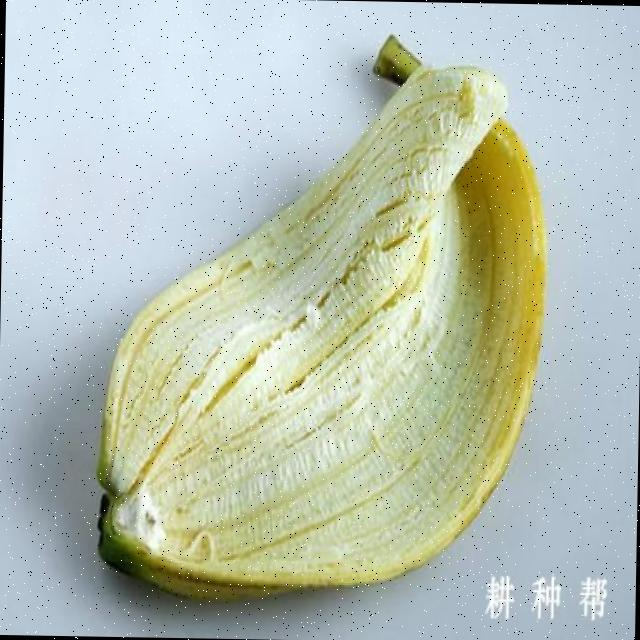banana-peel: (92, 27, 550, 607)
